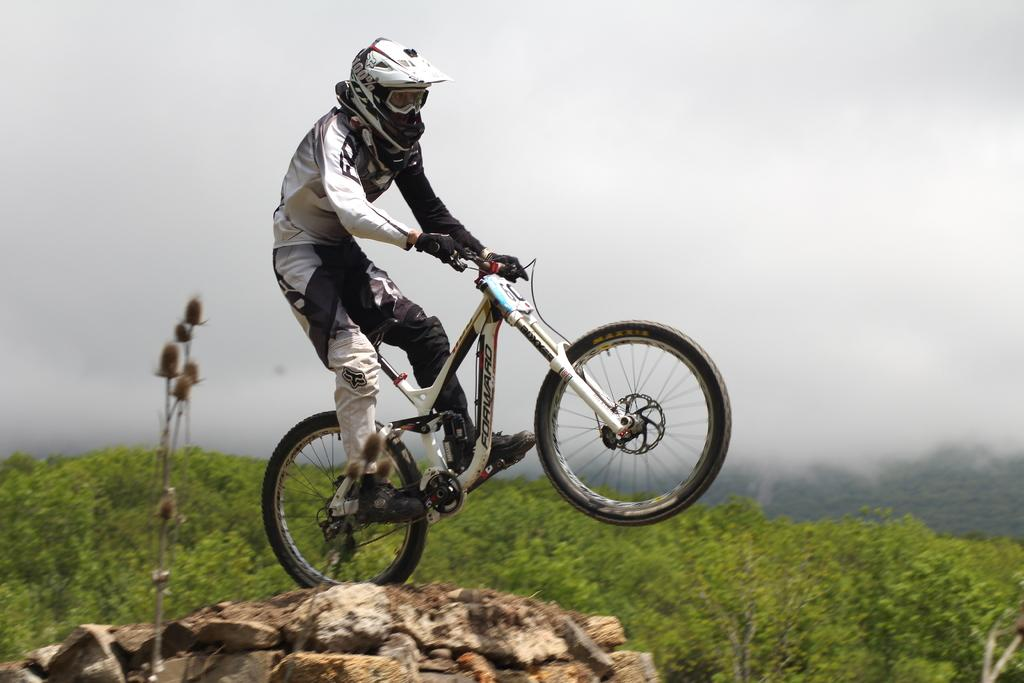helmet: (349, 37, 455, 152)
